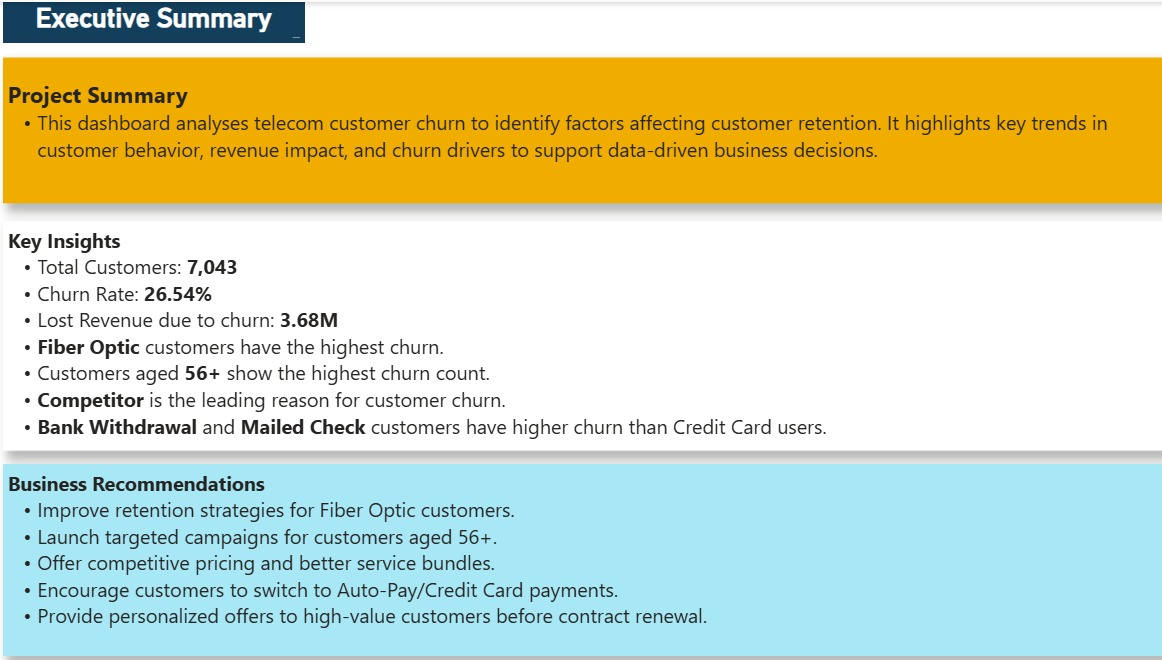

The dashboard page shown, as its layout file describes it:
{"tool":"powerbi","page":{"name":"Report","canvas":[1280,720],"ordinal":1},"visuals":[{"type":"textbox","box":[9.7,59.9,1271.1,157.1],"z":0},{"type":"textbox","box":[10,236.5,1270,193],"z":1000},{"type":"textbox","box":[9.7,236.4,1269.5,247.7],"z":2000},{"type":"textbox","box":[9.7,498.7,1269.5,207.3],"z":3000},{"type":"textbox","title":"Executive Summary","box":[9.7,0,325.5,43.7],"z":4000}]}

Visuals, with their boxes in screenshot pixels (x1, y1, x2, y2), scaled from the page's 1280x720 canvas onto the 1162x660 screenshot:
textbox: Rect(9, 55, 1161, 199)
textbox: Rect(9, 217, 1161, 394)
textbox: Rect(9, 217, 1161, 444)
textbox: Rect(9, 457, 1161, 647)
"Executive Summary" textbox: Rect(9, 0, 304, 40)
